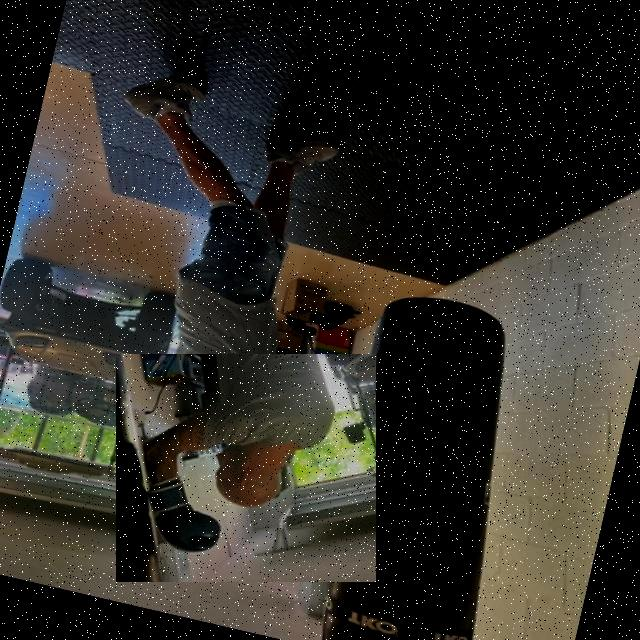punch: (116, 354, 376, 582)
